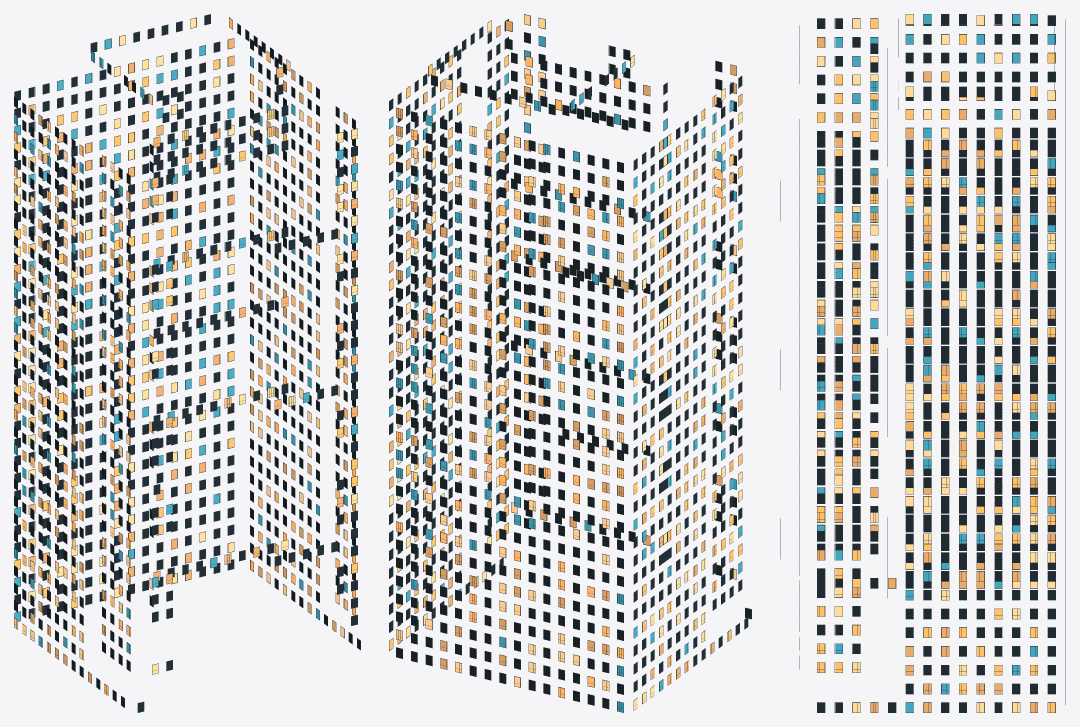
The model's file is facade-building-141.glb.
The picture shows the model from 3 angles, left to right: view 1: azimuth 30°, elevation 25°; view 2: azimuth 150°, elevation 25°; view 3: azimuth 270°, elevation 25°; orthographic projection. The views are drawn at different scales.
Visible parts, largest first — view 1: Facade fittings / building-141; view 2: Facade fittings / building-141; view 3: Facade fittings / building-141.
Boxes of the visible parts, <box> form: Facade fittings / building-141: <box>14,14,360,712</box>; Facade fittings / building-141: <box>389,14,751,712</box>; Facade fittings / building-141: <box>780,14,1065,712</box>.
Size of the model in its own units: 59.82 by 137 by 57.99.
